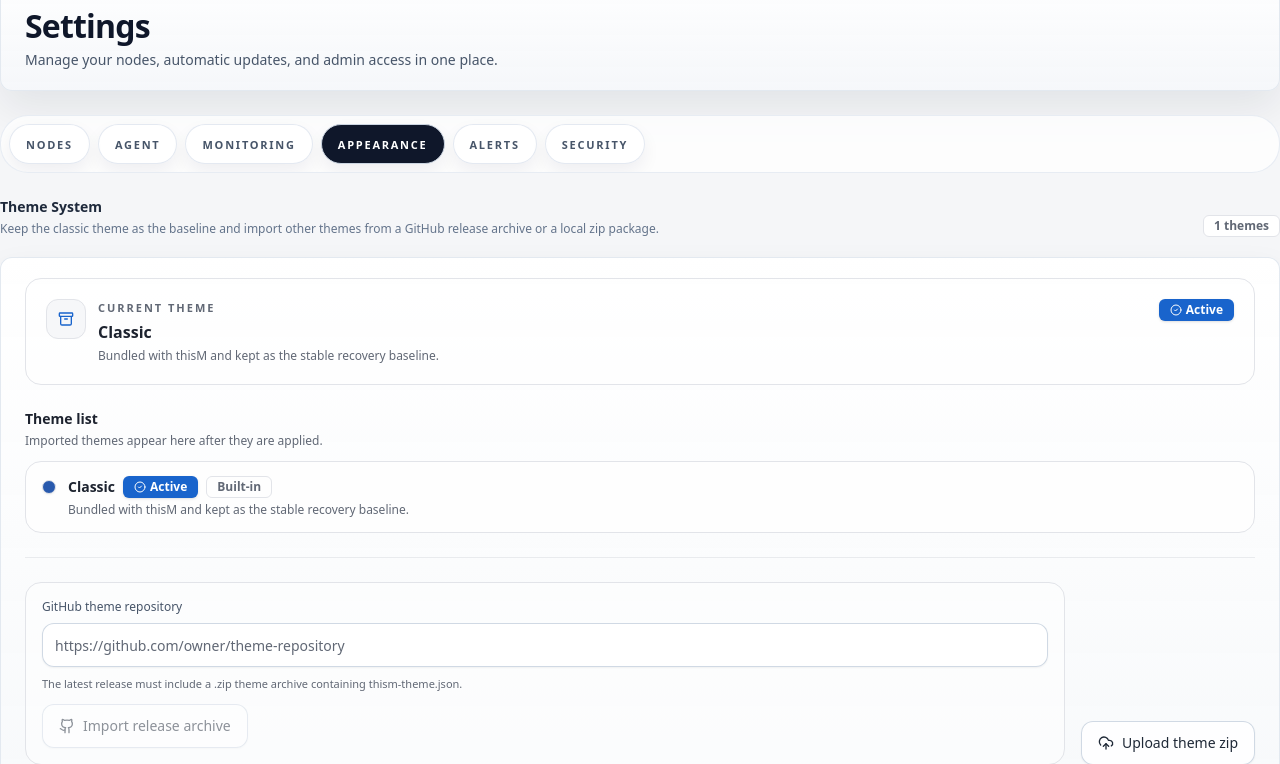
Test: settings theme system › imports the latest GitHub release zip through the server proxy
Type "https://github.com/acme/thism-themes" into the field labelled "GitHub theme repository" at (545, 645), box [42, 623, 1048, 667]
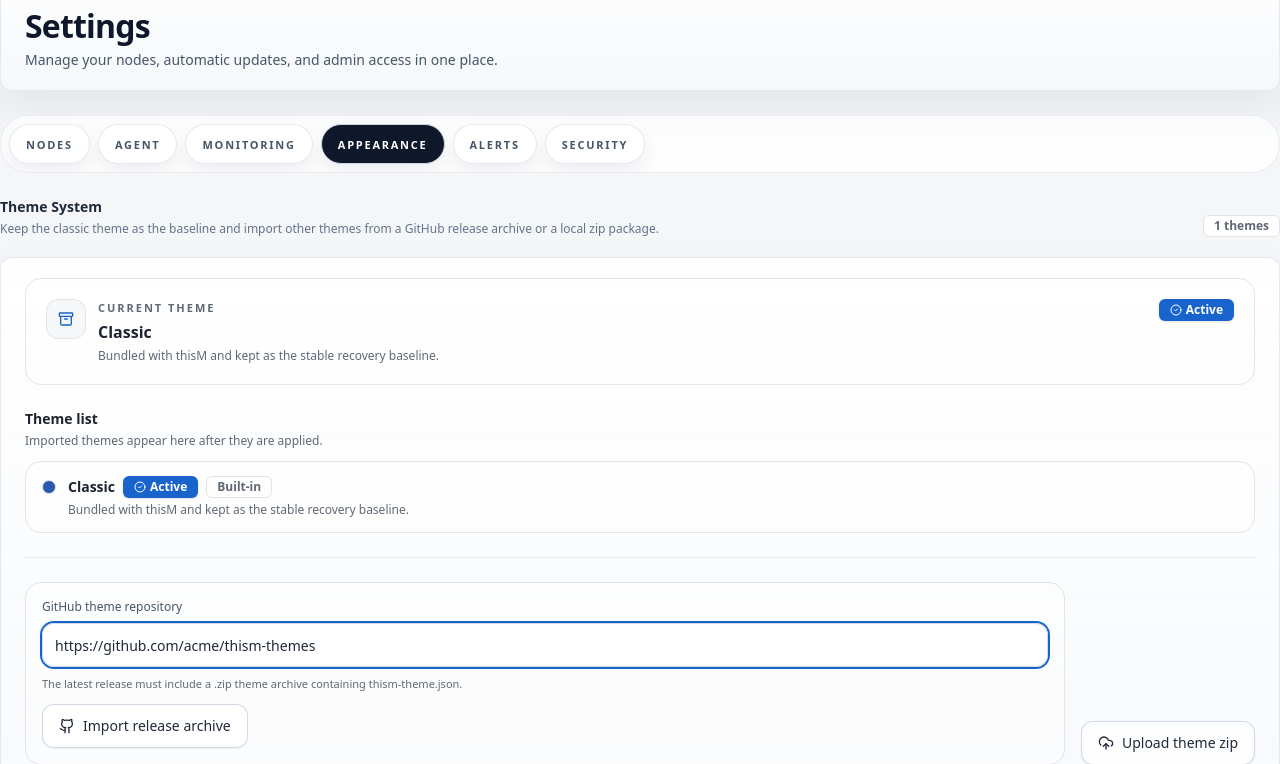
Click the button "Import release archive" at (145, 726), box [42, 704, 248, 748]
(page scrolled)
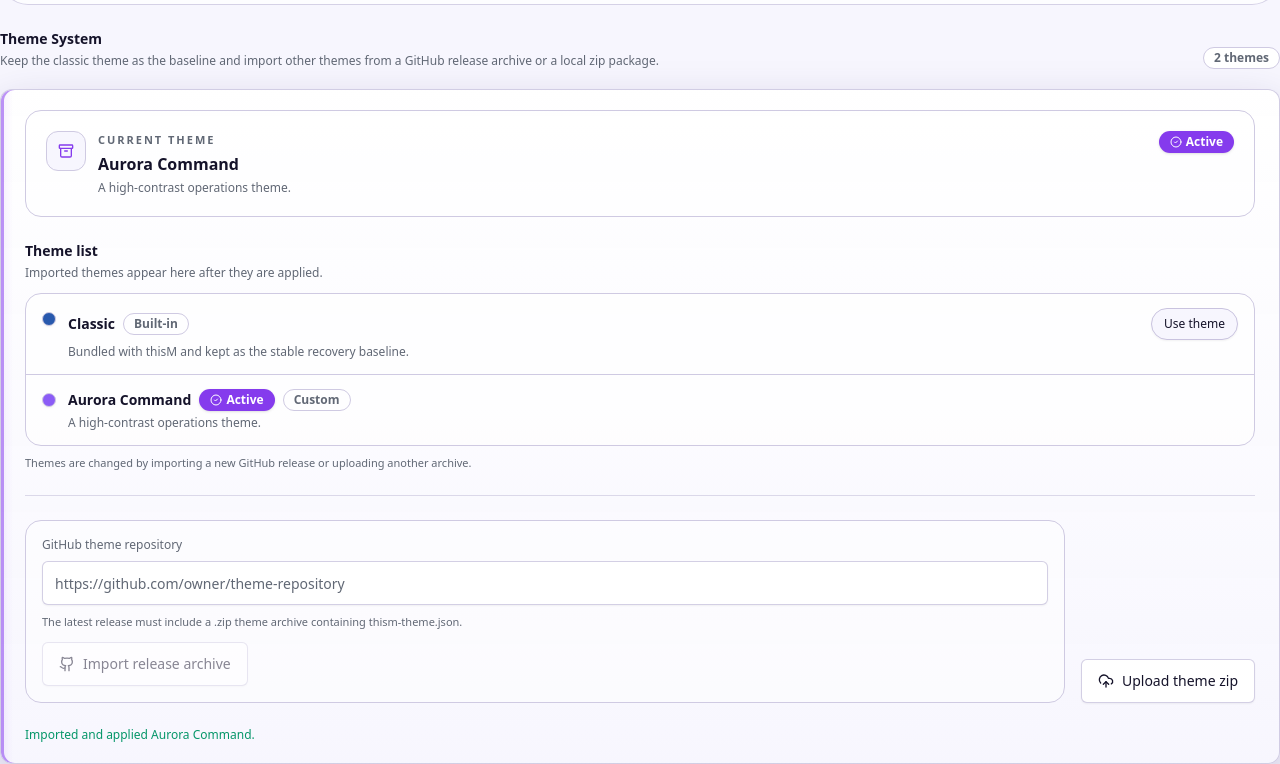
Check: the text "Imported and applied Aurora Command." is shown, box [25, 726, 255, 743]
